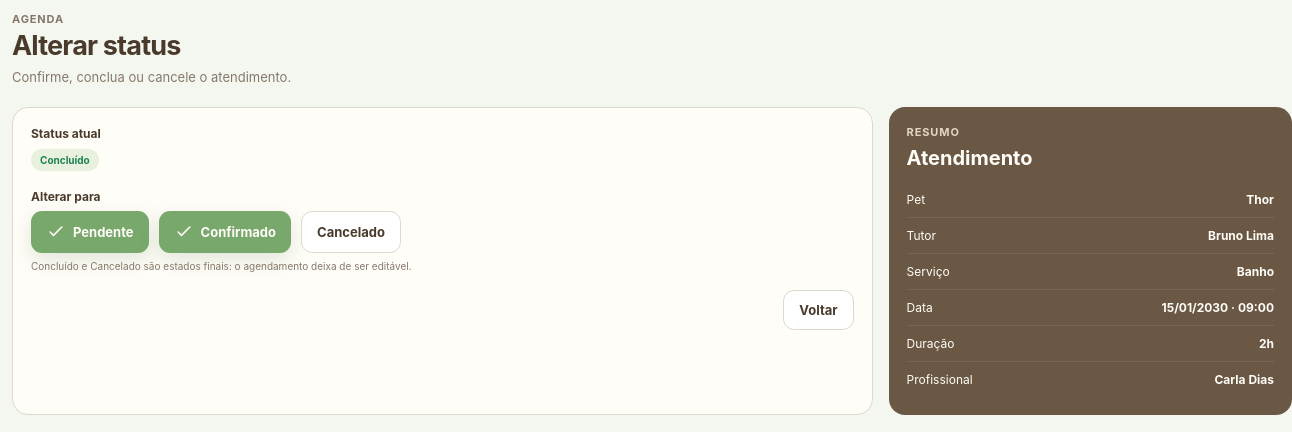
UI | AlterarStatusForm › deve exibir o erro da API quando a transição for inválida, mantendo o status atual
The width and height of the screenshot is (1292, 432).
Click the button "Pendente" at (90, 232), box top-left (31, 211), bottom-right (149, 253)
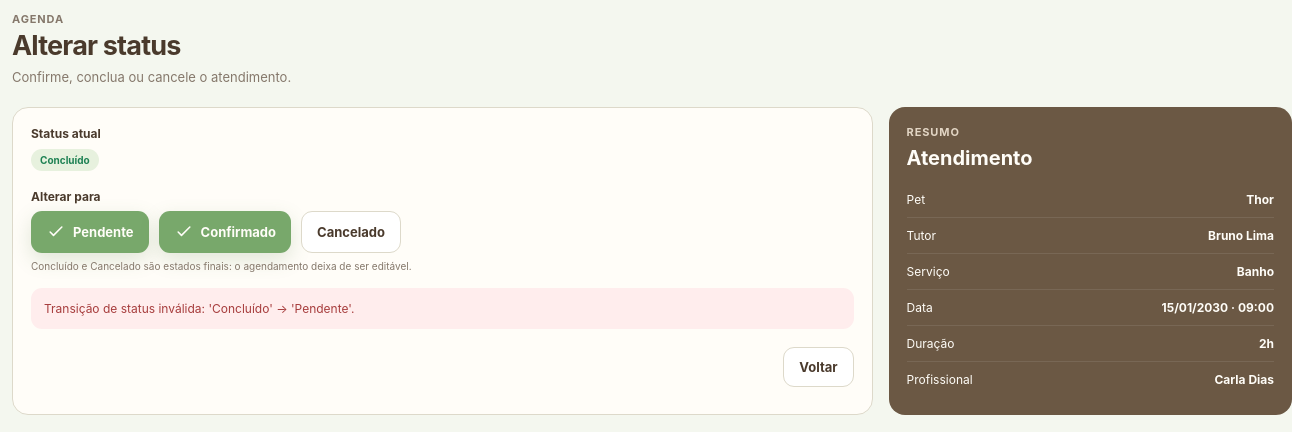
Expected: the text with test id "current-status" reads "Concluído", top-left (40, 154), bottom-right (90, 166)
Expected: the message shows "Transição de status inválida", top-left (44, 301), bottom-right (354, 316)
